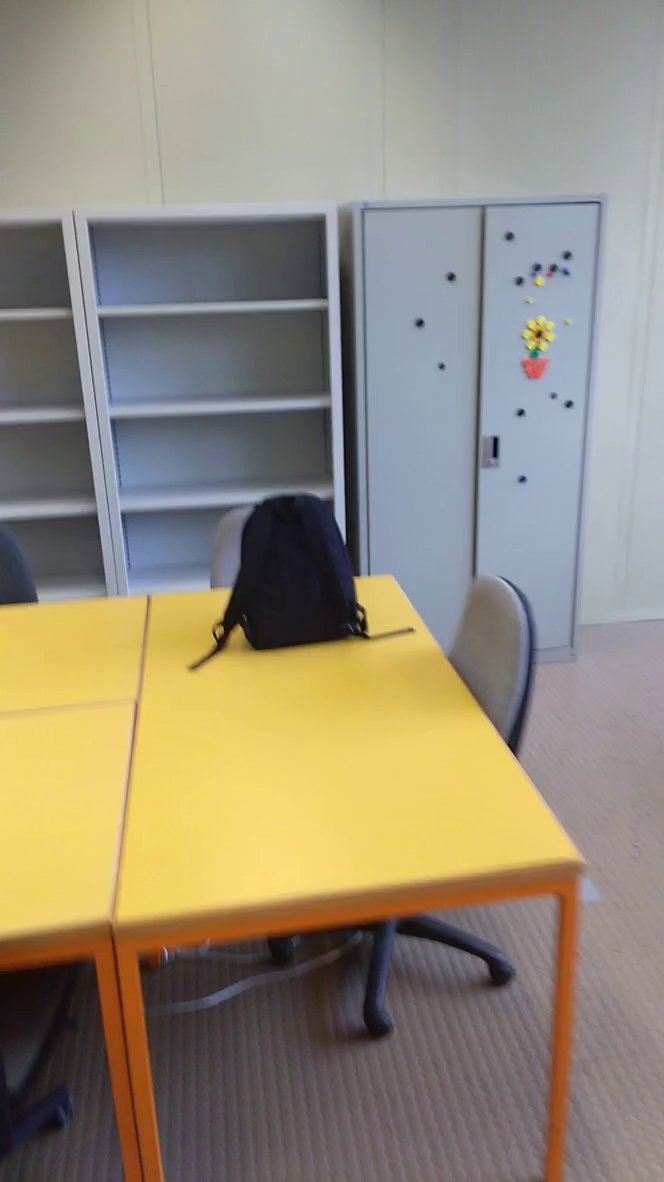bag: (182, 485, 419, 679)
chair: (443, 553, 549, 796)
